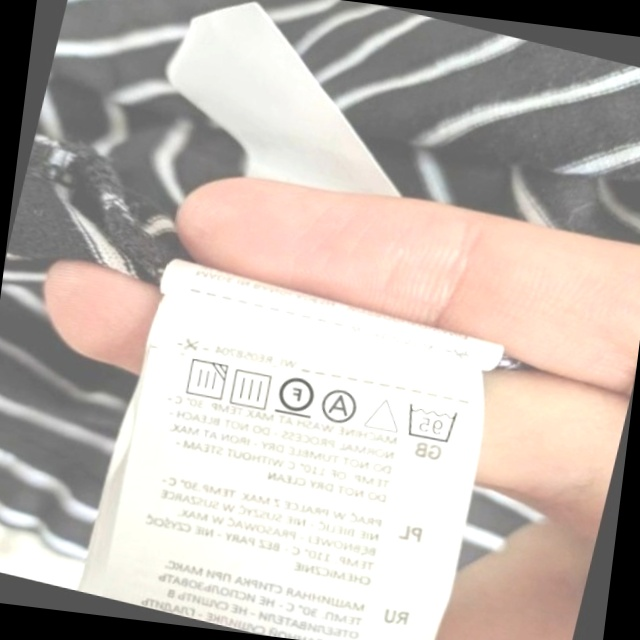95C: (398, 396, 463, 448)
bleach: (362, 389, 406, 439)
drip_dry: (224, 362, 278, 414)
drip_dry_in_shade: (177, 352, 232, 406)
dry_clean: (317, 383, 364, 429)
dry_clean_petrol_only: (271, 367, 321, 422)
